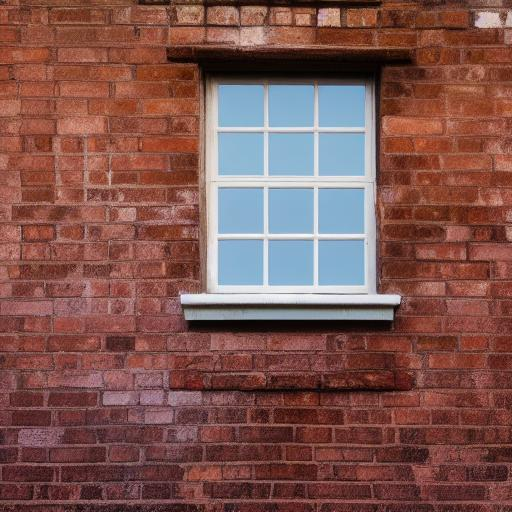Window: (167, 33, 415, 329)
